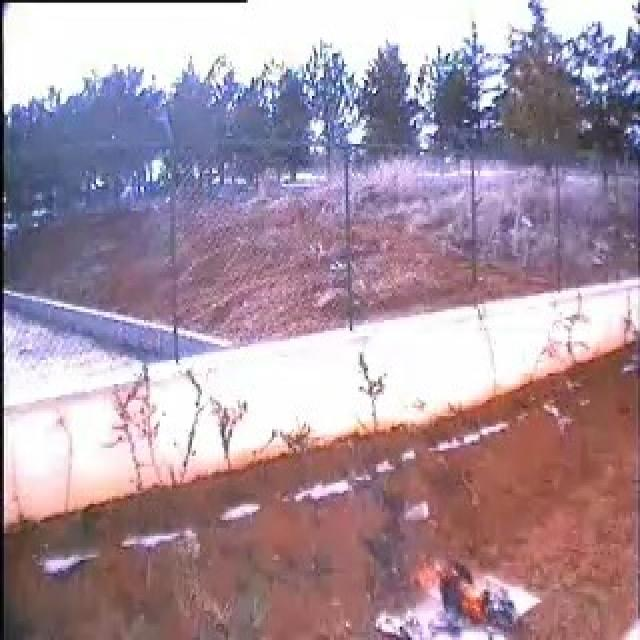fire: (372, 534, 399, 582), (458, 589, 492, 624)
